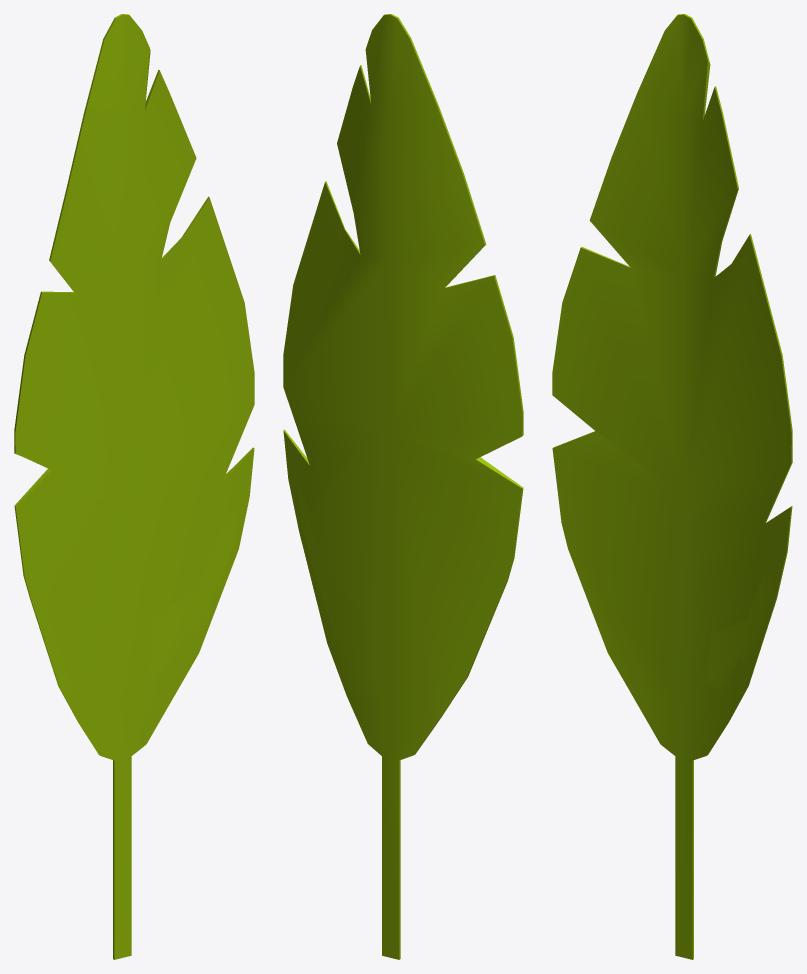
Rendered from Leaf.fbx.
3 views of the same model, side by side, from view 1: azimuth 30°, elevation 25°; view 2: azimuth 150°, elevation 25°; view 3: azimuth 330°, elevation 25° (orthographic).
Visible parts, largest first — view 1: Leaf; view 2: Leaf; view 3: Leaf.
Boxes of the visible parts, bbox=[...] form: Leaf: bbox=[14, 14, 254, 959]; Leaf: bbox=[283, 14, 523, 959]; Leaf: bbox=[552, 14, 792, 959].
Size of the model in its own units: 25.83 by 97.25 by 2.86.
